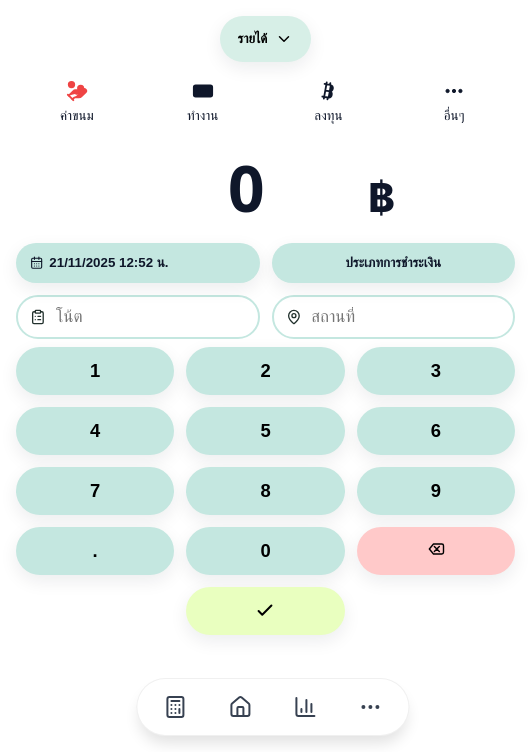
Test: Income Component › should update amount when clicking number key on keypad
This screenshot has width=532, height=752.
Click the button "5" at (265, 431), box [186,407,345,455]
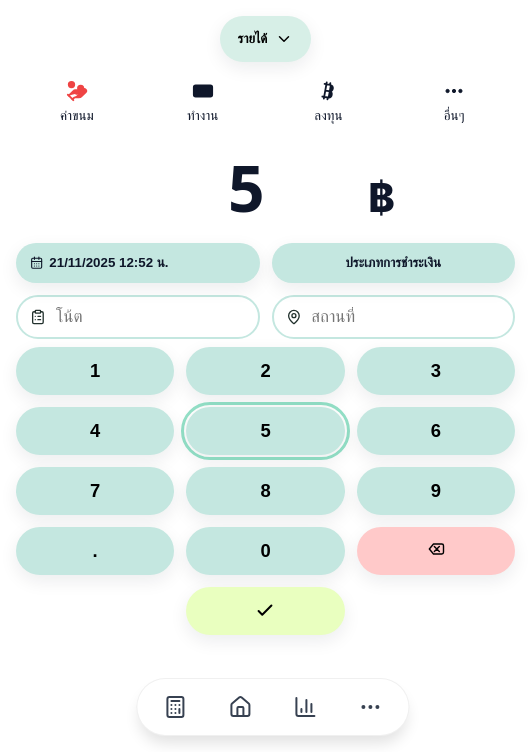
Now the field named "จำนวนเงิน" holds "5", box [136,144,356,231]
